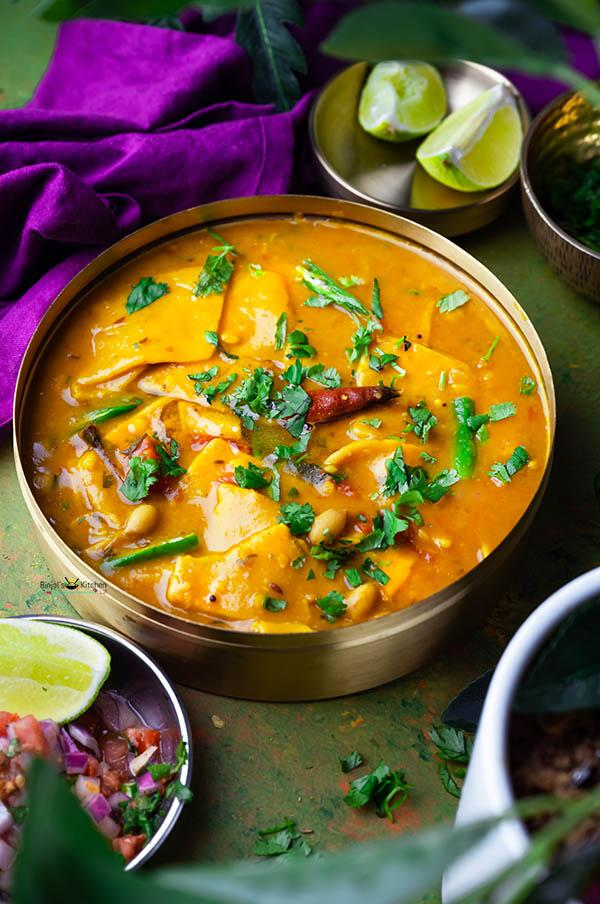varan: (81, 233, 529, 611)
